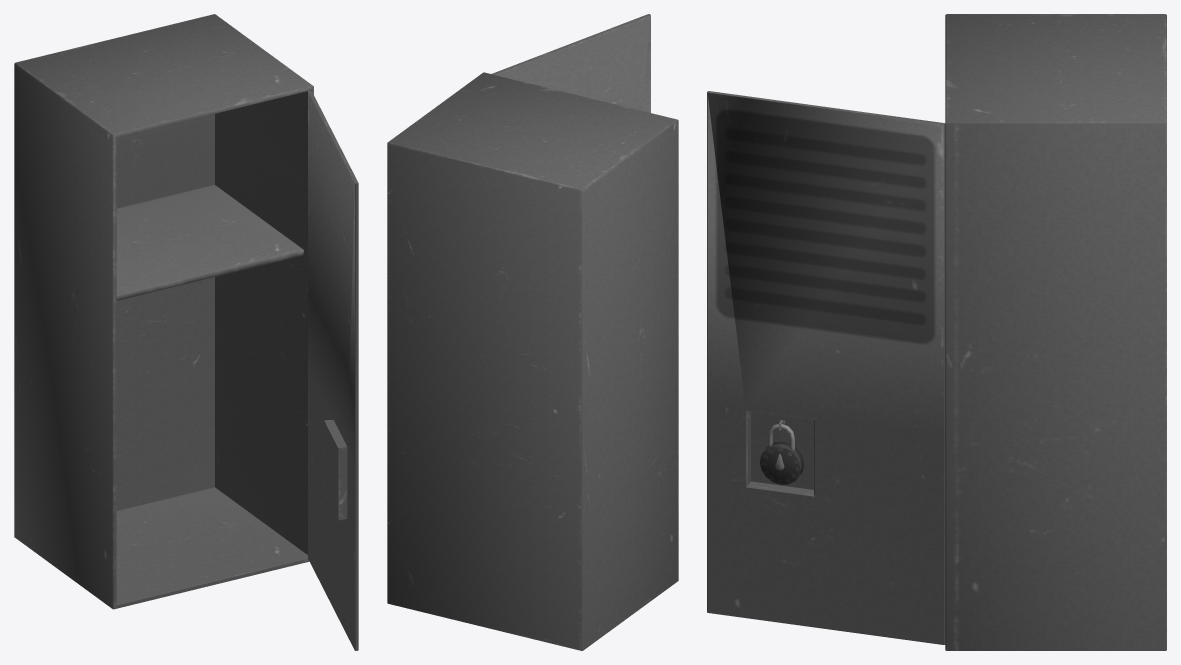
The model's file is single_locker.fbx.
3 renders of one model, left to right at view 1: azimuth 30°, elevation 25°; view 2: azimuth 150°, elevation 25°; view 3: azimuth 270°, elevation 25°, orthographic. The views are drawn at different scales.
Parts seen in each view (by area): view 1: Locker2, Door_Locker2; view 2: Locker2, Door_Locker2; view 3: Locker2, Door_Locker2.
Part boxes in pixels (<box>): Locker2: <box>14,14,313,609</box>; Door_Locker2: <box>308,90,358,650</box>; Locker2: <box>387,72,678,650</box>; Door_Locker2: <box>492,14,650,112</box>; Locker2: <box>945,14,1166,650</box>; Door_Locker2: <box>707,91,945,644</box>.
Size of the model in its own units: 74.39 by 167 by 132.
1 material, 1 textured.
